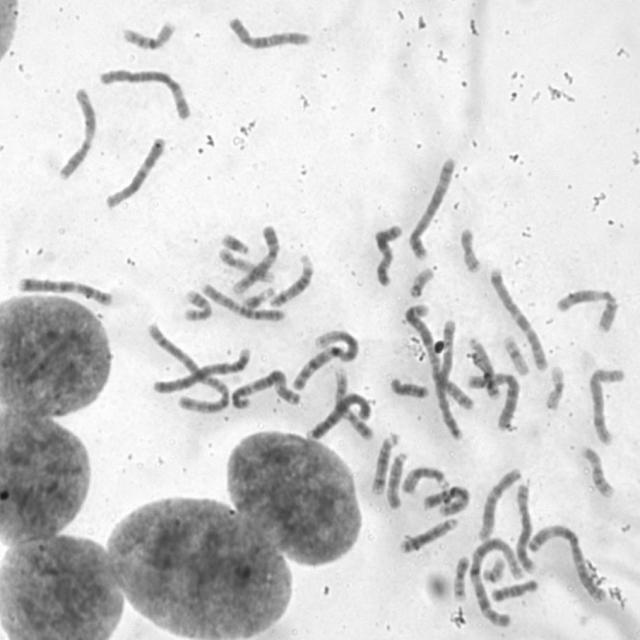A1: (468, 536, 522, 630), (288, 324, 361, 392)
A2: (400, 300, 474, 418), (142, 319, 232, 415)
A3: (523, 519, 606, 604), (228, 364, 303, 411)
B4: (150, 344, 253, 395), (306, 390, 373, 444)
B5: (405, 153, 458, 261), (432, 317, 464, 442)
C10: (203, 282, 291, 322), (223, 12, 313, 51)
C11: (54, 82, 99, 182), (553, 283, 622, 334)
C12: (102, 132, 168, 210), (476, 464, 524, 542)
C6: (96, 64, 194, 122), (464, 368, 521, 432)
C7: (485, 263, 551, 373), (13, 272, 116, 308)
C8: (584, 363, 626, 447), (510, 478, 538, 576)
C9: (228, 222, 281, 296), (331, 365, 375, 441)
D13: (396, 513, 460, 555), (466, 333, 502, 400)
D14: (265, 249, 316, 309), (366, 428, 400, 496)
D15: (398, 462, 451, 495), (382, 448, 409, 509)
E16: (117, 15, 178, 52), (576, 443, 615, 500)
E17: (215, 246, 277, 284), (179, 286, 214, 322)
E18: (486, 575, 539, 603), (387, 373, 431, 400)
F19: (500, 331, 531, 376), (541, 361, 567, 412)
F20: (456, 222, 483, 274), (450, 552, 471, 602)
G21: (238, 284, 276, 311), (218, 229, 252, 255)
G22: (406, 262, 434, 299), (481, 554, 507, 584)
X: (369, 221, 403, 288), (418, 483, 473, 518)
